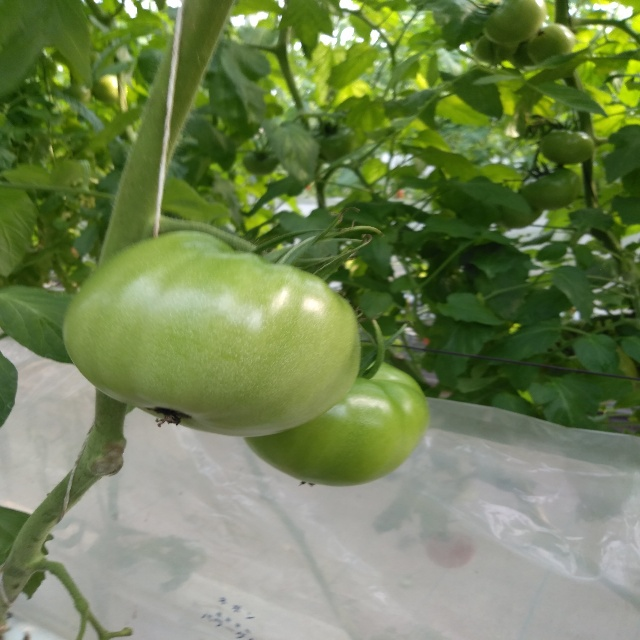b_green: (62, 231, 361, 438), (242, 354, 431, 488), (484, 0, 546, 45), (521, 168, 581, 210), (527, 23, 574, 67), (539, 131, 594, 165)
